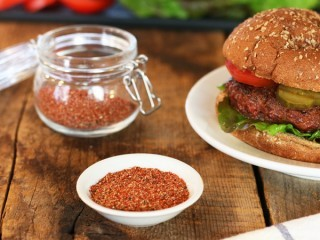hamburger_buns: (222, 8, 320, 148)
